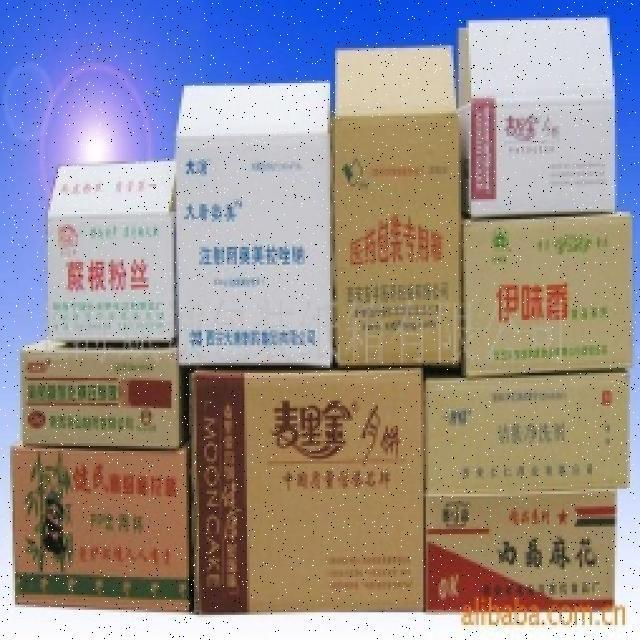box: (184, 362, 427, 622), (178, 82, 338, 368), (330, 42, 462, 366), (0, 441, 196, 615), (461, 15, 625, 211), (410, 480, 630, 621), (462, 214, 637, 364), (422, 370, 634, 490), (46, 164, 178, 347), (13, 333, 190, 451)
